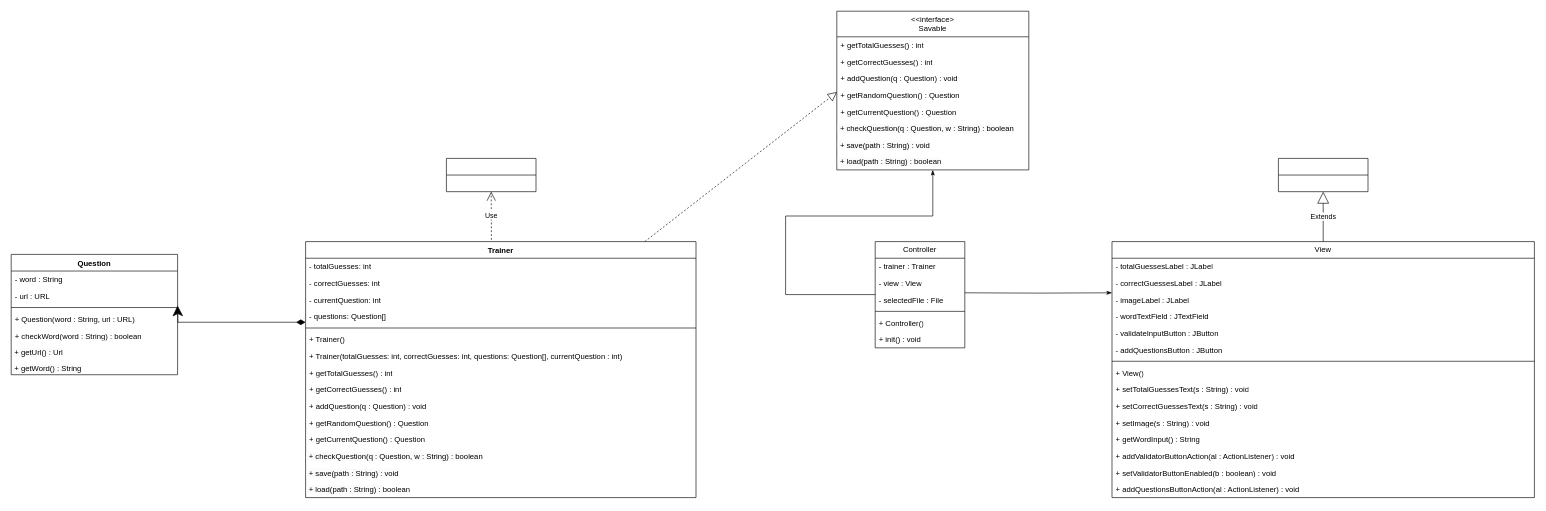
This 1546x511 diagram has some shape labels left out. Here are the shapes that lost their labels. From the top down, the centre of each, then its label:
the point at 491,175: JSON
the point at 1323,175: JFrame
